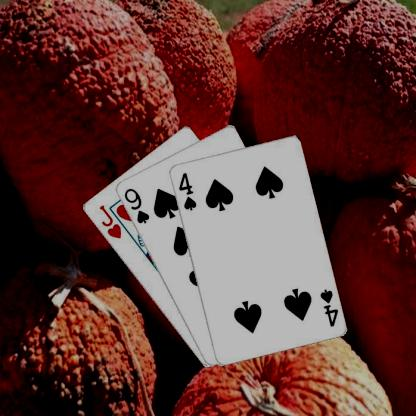4S: (317, 286, 339, 328), (175, 170, 197, 211)
9S: (121, 185, 150, 225)
JH: (96, 202, 122, 240)
